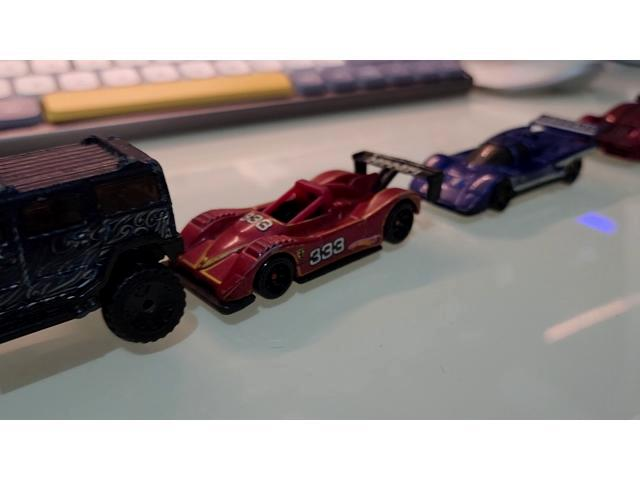toy-car: (181, 150, 443, 316), (0, 130, 188, 343), (421, 112, 605, 220), (578, 93, 640, 164)
